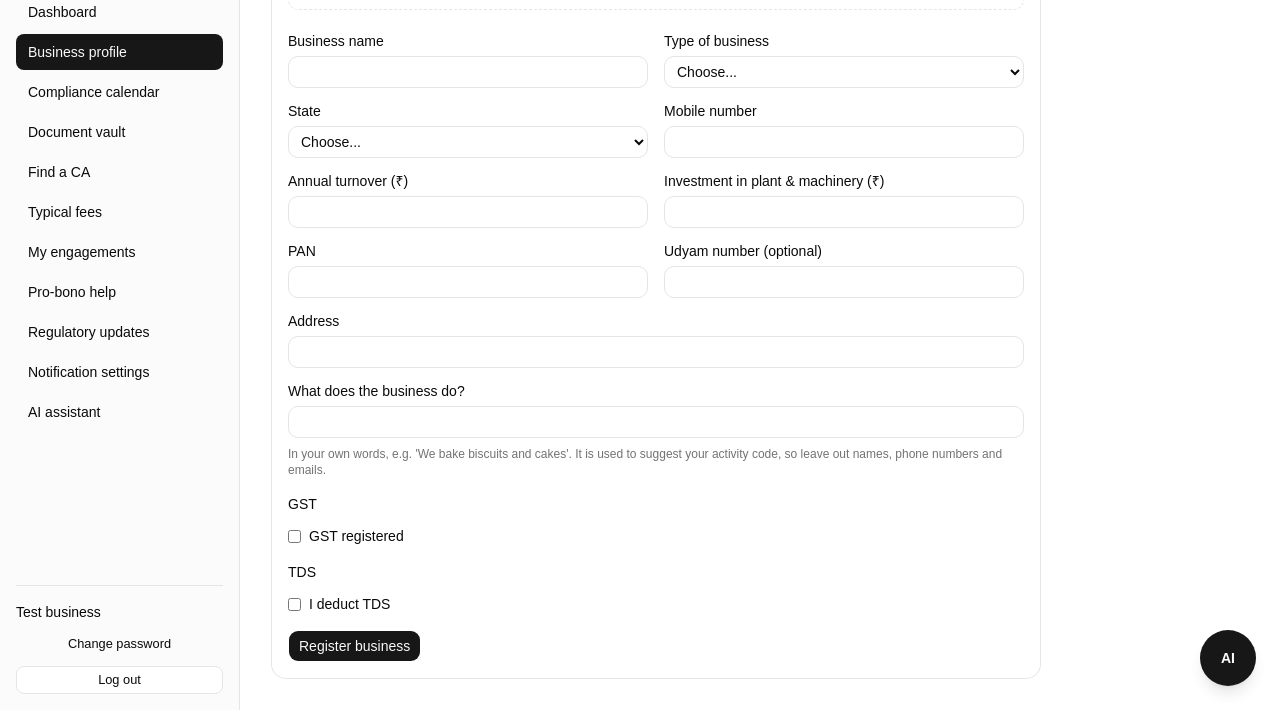
Test case: business profile page › asks for the GSTIN only when GST registered
(page scrolled)
Click the checkbox labelled "GST registered" at (294, 536), box [288,530,301,542]
(page scrolled)
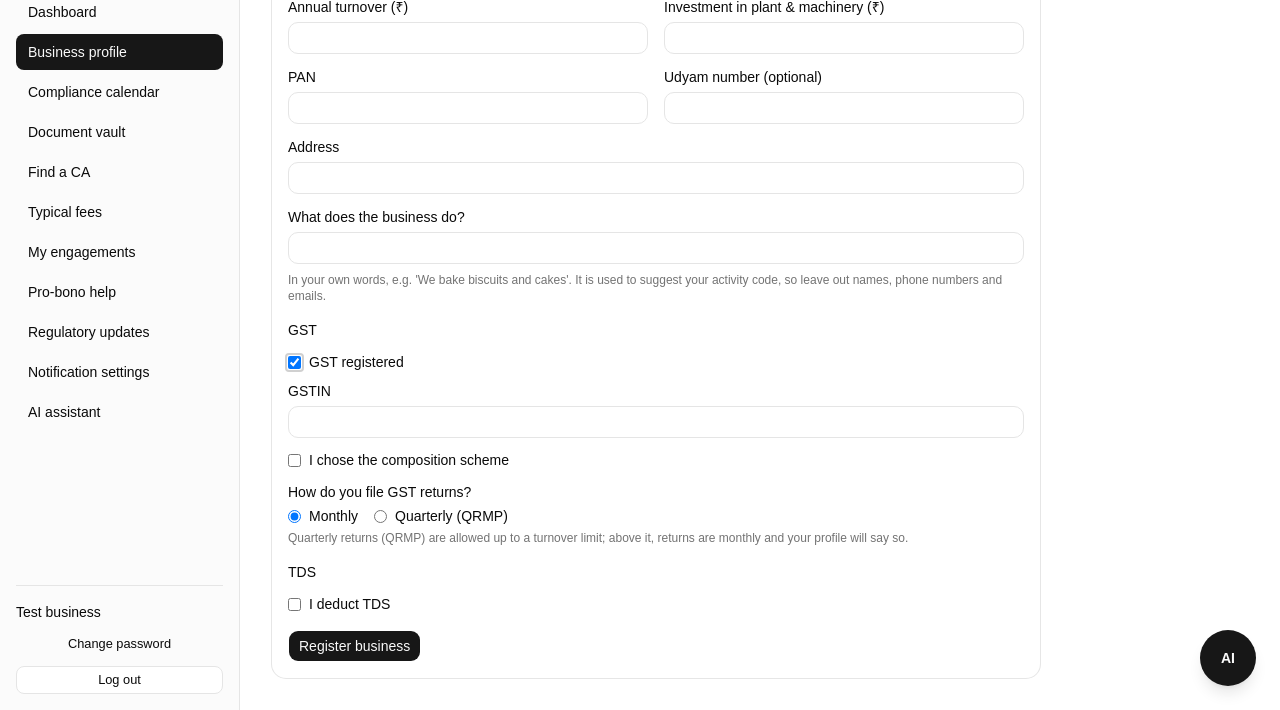
Click the button "Register business" at (355, 646), box [288,630,421,662]
(page scrolled)
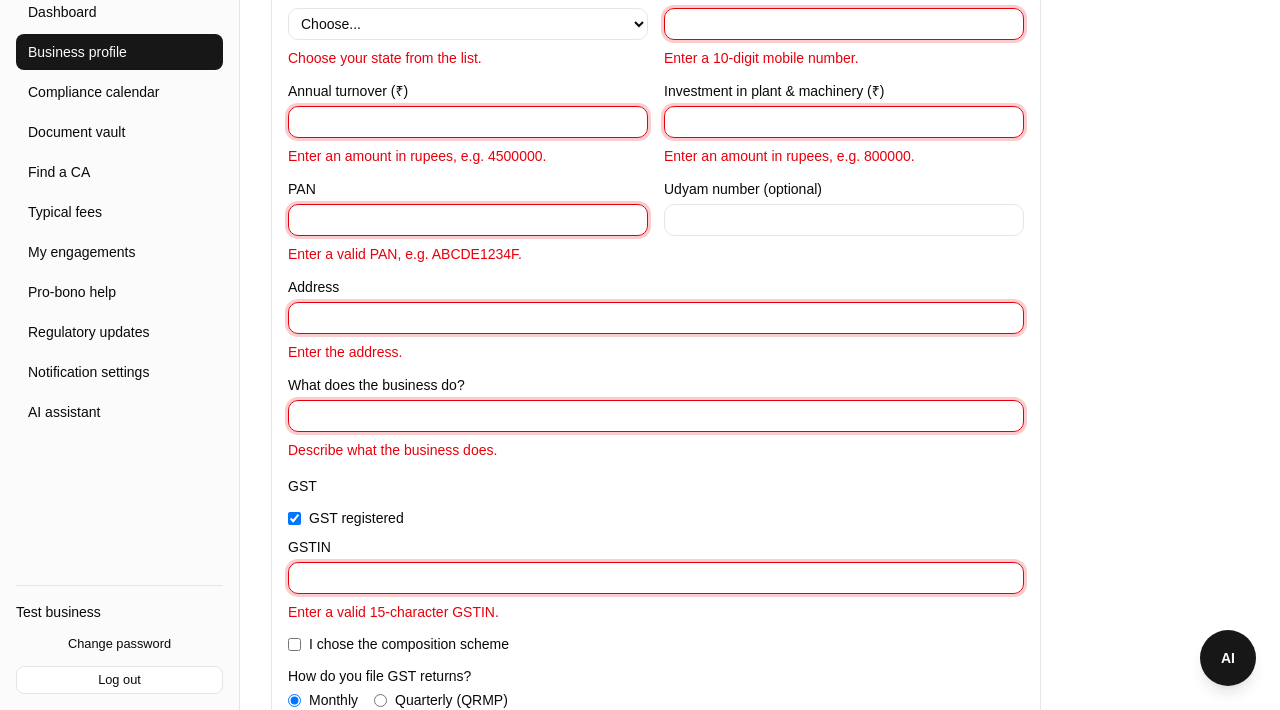
Result: the text "Enter a valid 15-character GSTIN." is shown at [288,604,499,620]
